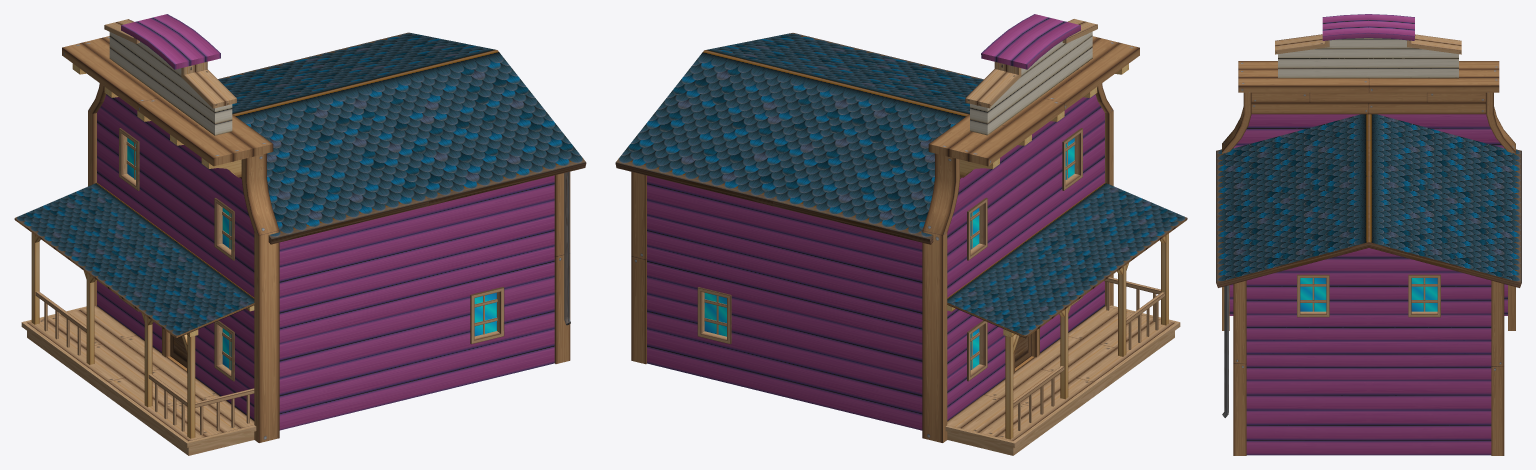
File: House_05.FBX
3 renders of one model, left to right at view 1: azimuth 30°, elevation 25°; view 2: azimuth 150°, elevation 25°; view 3: azimuth 270°, elevation 25°, orthographic. The views are drawn at different scales.
Visible parts, largest first — view 1: Wall, Roof, Front, Frontage, Glass; view 2: Wall, Roof, Front, Frontage, Glass; view 3: Wall, Roof, Front, Glass.
Part boxes in pixels (x1,y1,x2,y2): Wall: [279, 171, 570, 430]; Roof: [218, 32, 586, 244]; Front: [62, 14, 279, 442]; Frontage: [14, 183, 256, 455]; Glass: [127, 138, 496, 369]; Wall: [631, 172, 922, 430]; Roof: [615, 33, 983, 244]; Front: [922, 14, 1139, 442]; Frontage: [945, 183, 1187, 455]; Glass: [704, 138, 1074, 369]; Wall: [1222, 248, 1504, 455]; Roof: [1216, 114, 1521, 287]; Front: [1222, 14, 1515, 330]; Glass: [1300, 278, 1437, 311].
Bounding box in the file's own units: 11.49 × 9.44 × 8.79.
